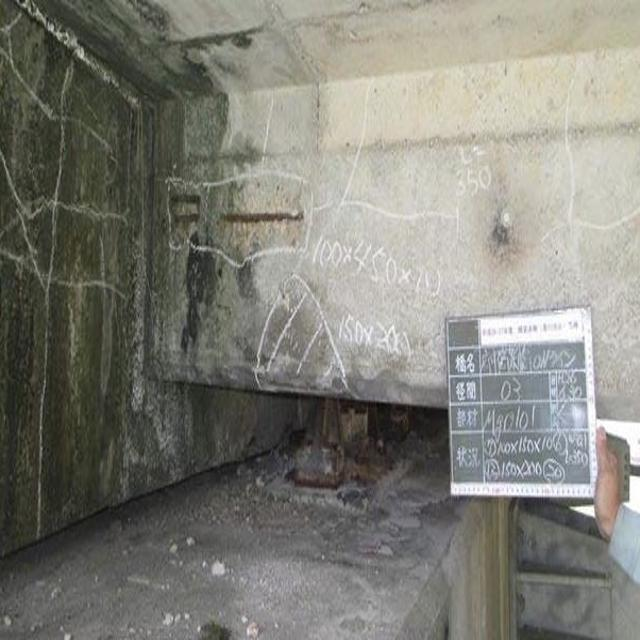spalling: (150, 167, 310, 269)
